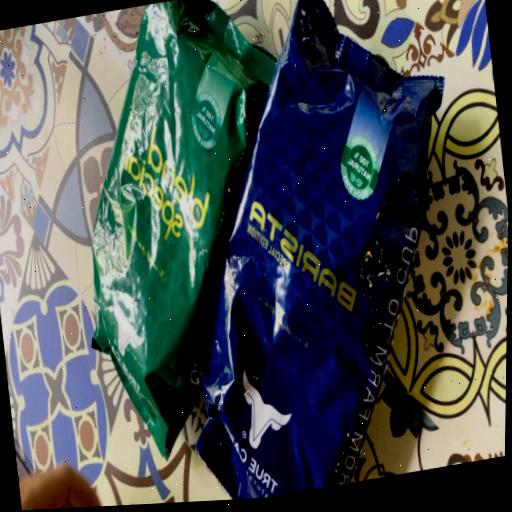cafe_hat: (197, 0, 443, 499)
cafe_xay: (92, 0, 276, 452)
